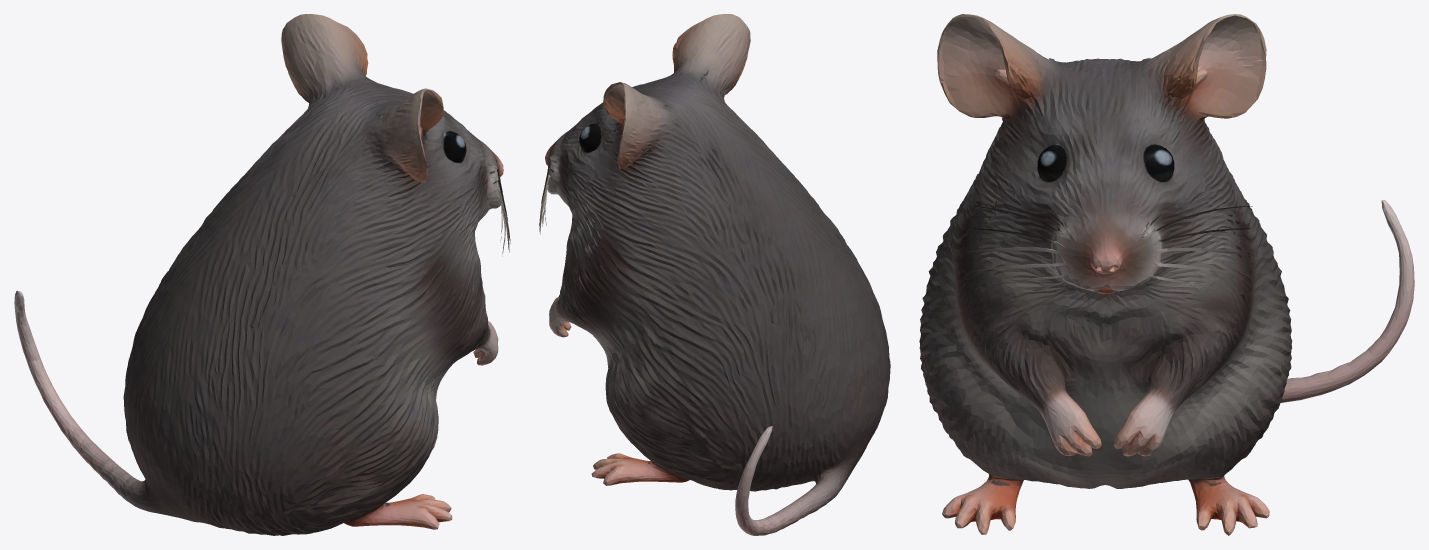
3 views of the same model, side by side, from view 1: azimuth 30°, elevation 25°; view 2: azimuth 150°, elevation 25°; view 3: azimuth 270°, elevation 25° (orthographic). The views are drawn at different scales.
Parts seen in each view (by area): view 1: tripo_node_11ef6220; view 2: tripo_node_11ef6220; view 3: tripo_node_11ef6220.
Part boxes in pixels (box(x1,y1,x2,y2)): tripo_node_11ef6220: box(14, 14, 510, 535); tripo_node_11ef6220: box(539, 14, 890, 535); tripo_node_11ef6220: box(919, 14, 1414, 535).
Bounding box in the file's own units: 0.8871 × 0.9992 × 0.8875.
Materials: 1 (1 with a texture image).
